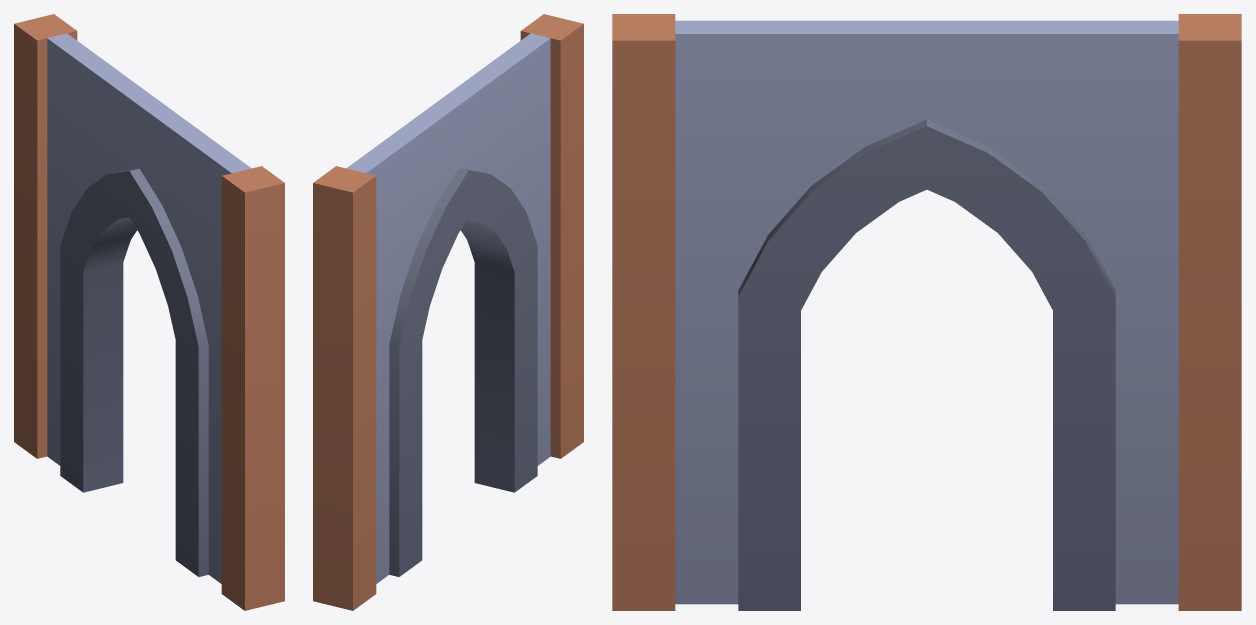
Rendered from wall-doorway-round.glb.
The picture shows the model from 3 angles, left to right: view 1: azimuth 30°, elevation 25°; view 2: azimuth 150°, elevation 25°; view 3: azimuth 270°, elevation 25°; orthographic projection. The views are drawn at different scales.
Parts seen in each view (by area): view 1: wall-doorway-round; view 2: wall-doorway-round; view 3: wall-doorway-round.
Part boxes in pixels (<box>): wall-doorway-round: <box>14,14,284,610</box>; wall-doorway-round: <box>313,14,583,610</box>; wall-doorway-round: <box>612,14,1241,610</box>.
Size of the model in its own units: 0.1 by 1 by 1.
Materials: 1 (1 with a texture image).
